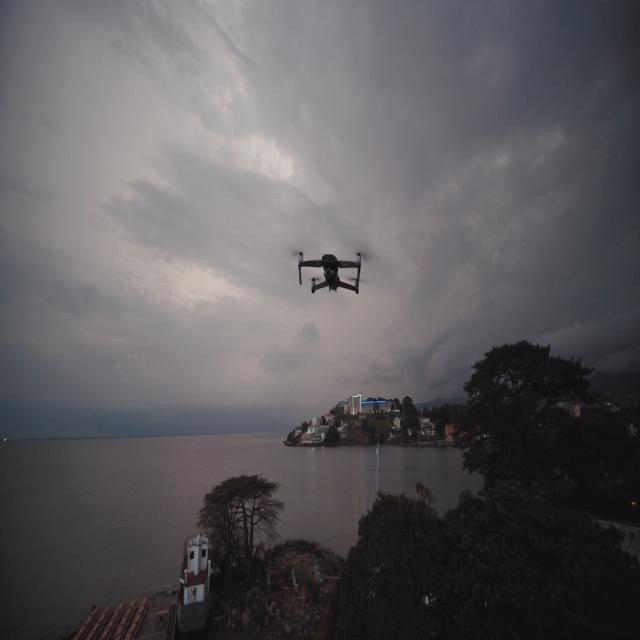drone: (296, 250, 362, 295)
